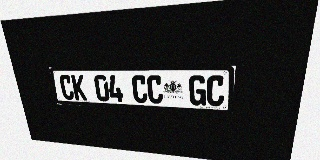0: (93, 75, 110, 102)
4: (107, 75, 124, 102)
C: (206, 75, 225, 107), (131, 75, 148, 103), (147, 75, 163, 104), (58, 75, 75, 100)
G: (189, 75, 206, 106)
K: (71, 75, 87, 101)
